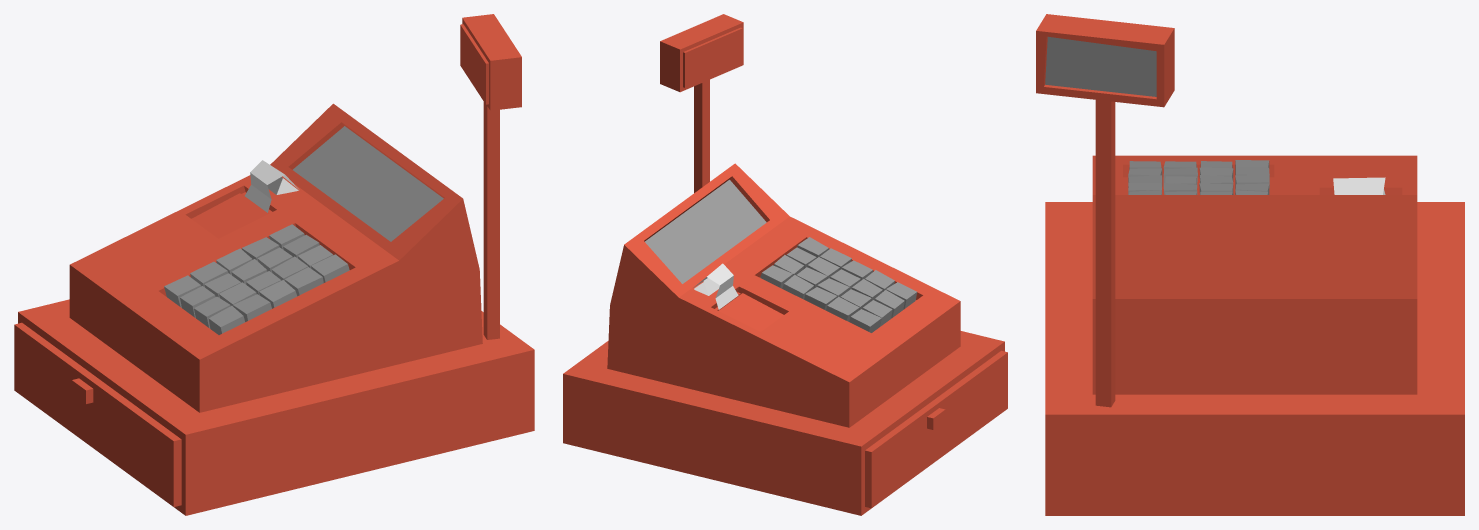
Rendered from CashRegister.fbx.
3 views of the same model, side by side, from view 1: azimuth 30°, elevation 25°; view 2: azimuth 150°, elevation 25°; view 3: azimuth 270°, elevation 25° (orthographic). The views are drawn at different scales.
Visible parts, largest first — view 1: CashRegister; view 2: CashRegister; view 3: CashRegister.
Part boxes in pixels (bbox=[...]): CashRegister: bbox=[14, 14, 534, 515]; CashRegister: bbox=[563, 14, 1007, 515]; CashRegister: bbox=[1036, 14, 1464, 515].
Size of the model in its own units: 47.82 by 46.88 by 38.33.
